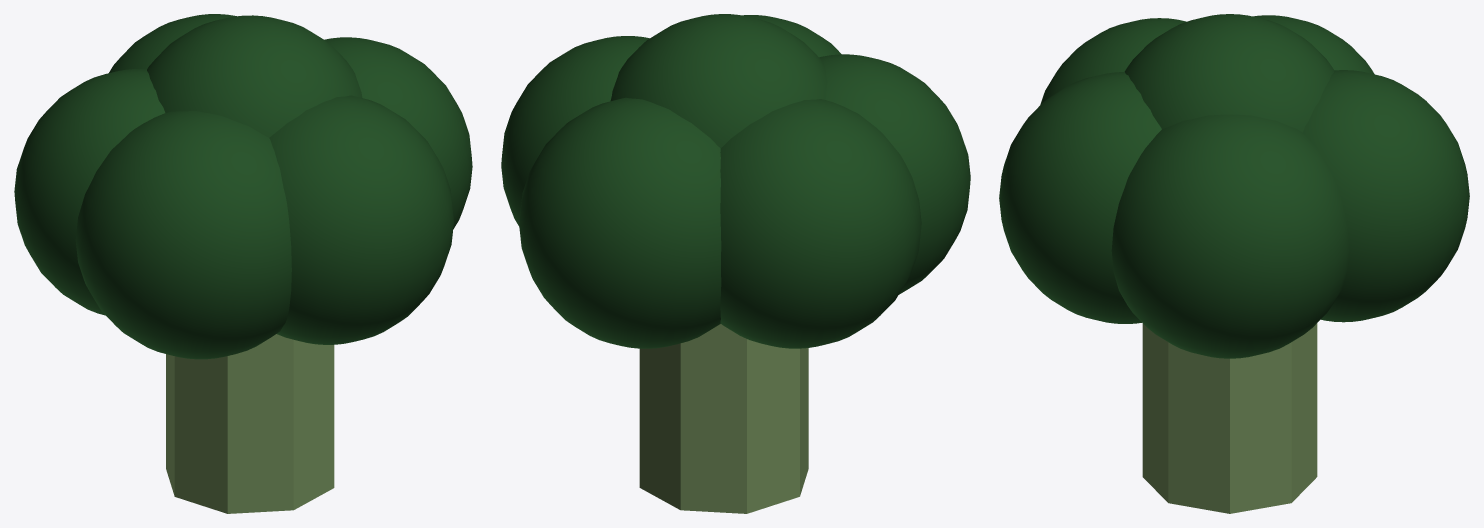
File: burokkori-.glb
3 views of the same model, side by side, from view 1: azimuth 30°, elevation 25°; view 2: azimuth 150°, elevation 25°; view 3: azimuth 270°, elevation 25° (orthographic).
Visible parts, largest first — view 1: 円柱; view 2: 円柱; view 3: 円柱.
Boxes of the visible parts, x1=… form: 円柱: x1=14, y1=14, x2=472, y2=513; 円柱: x1=501, y1=14, x2=970, y2=513; 円柱: x1=999, y1=14, x2=1469, y2=513.
Bounding box in the file's own units: 0.3025 × 0.3216 × 0.3039.
